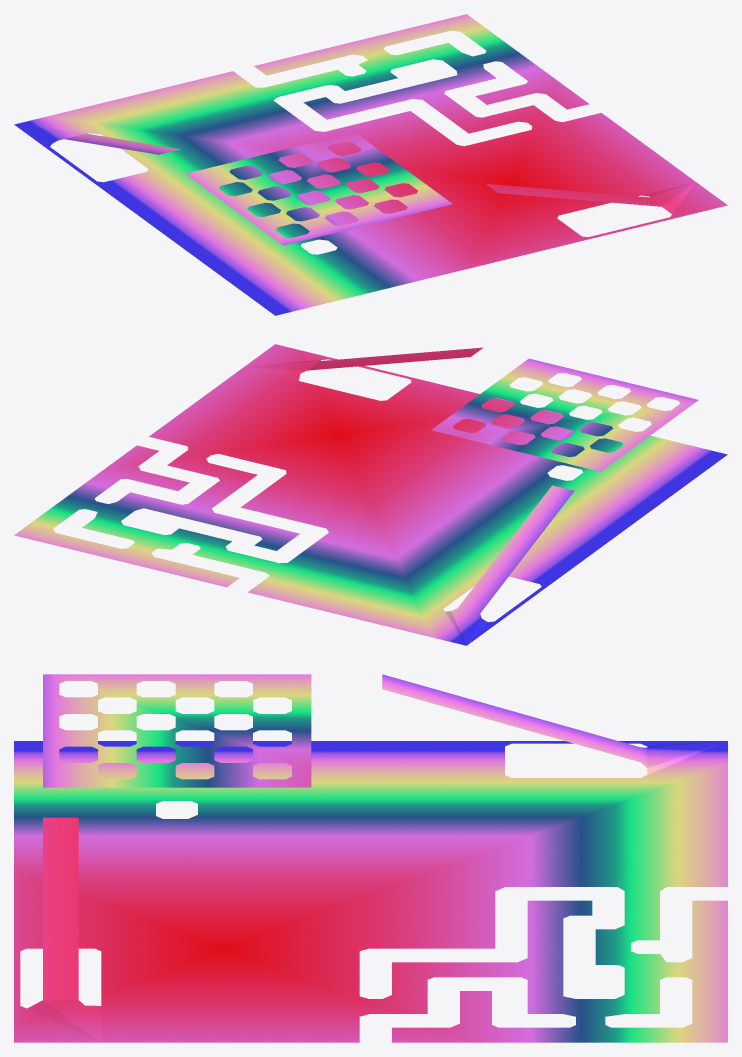
The model's file is rainbow navmesh v2.dae.
3 views of the same model, one above another, from view 1: azimuth 30°, elevation 25°; view 2: azimuth 150°, elevation 25°; view 3: azimuth 270°, elevation 25° (orthographic). The views are drawn at different scales.
Parts seen in each view (by area): view 1: Artificial_IntellyGents_Exported_NavMesh_ExportedNavMesh; view 2: Artificial_IntellyGents_Exported_NavMesh_ExportedNavMesh; view 3: Artificial_IntellyGents_Exported_NavMesh_ExportedNavMesh.
Boxes of the visible parts, left/top/right/bottom form: Artificial_IntellyGents_Exported_NavMesh_ExportedNavMesh: left=14, top=14, right=727, bottom=315; Artificial_IntellyGents_Exported_NavMesh_ExportedNavMesh: left=14, top=344, right=727, bottom=645; Artificial_IntellyGents_Exported_NavMesh_ExportedNavMesh: left=14, top=674, right=727, bottom=1042.
Size of the model in its own units: 36.83 by 4.5 by 36.83.
